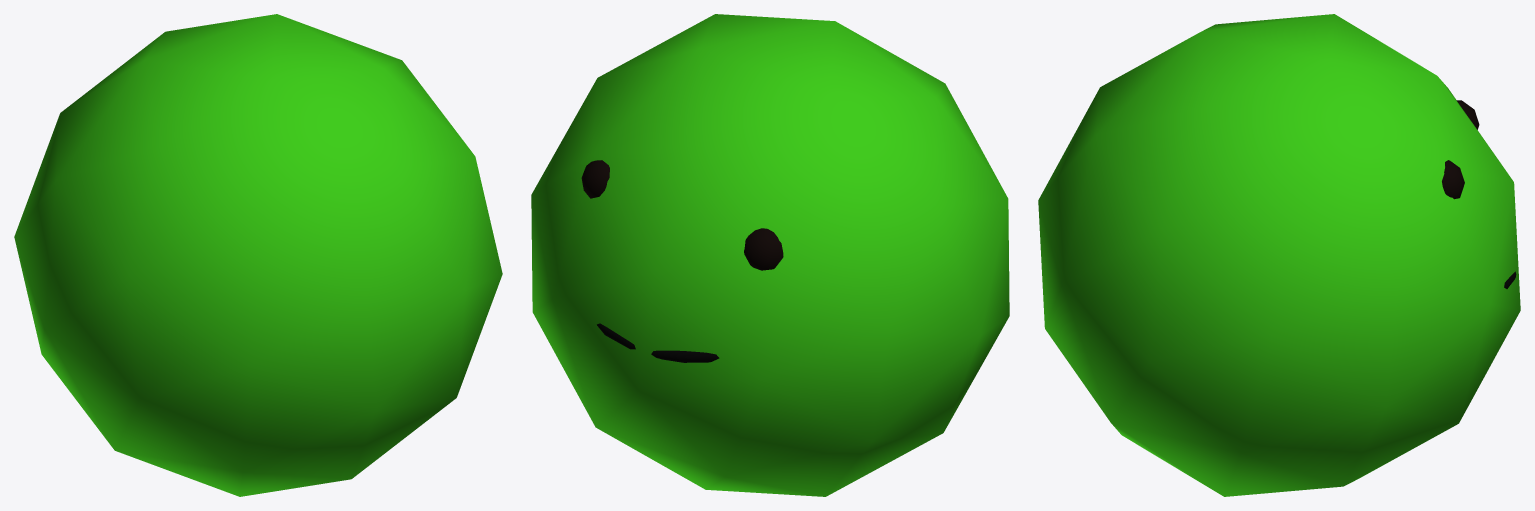
Rendered from smiley_happy.gltf.
The picture shows the model from 3 angles, left to right: view 1: azimuth 30°, elevation 25°; view 2: azimuth 150°, elevation 25°; view 3: azimuth 270°, elevation 25°; orthographic projection.
Parts seen in each view (by area): view 1: Icosphere; view 2: Icosphere, Icosphere.002, BezierCurve, Icosphere.001; view 3: Icosphere, Icosphere.001.
Part boxes in pixels (x1,y1,x2,y2): Icosphere: [14, 14, 502, 496]; Icosphere: [531, 14, 1009, 496]; Icosphere.002: [744, 228, 783, 270]; BezierCurve: [597, 323, 719, 362]; Icosphere.001: [581, 160, 609, 198]; Icosphere: [1038, 14, 1520, 496]; Icosphere.001: [1442, 160, 1464, 199].
Size of the model in its own units: 8.98 by 8.65 by 8.81.
